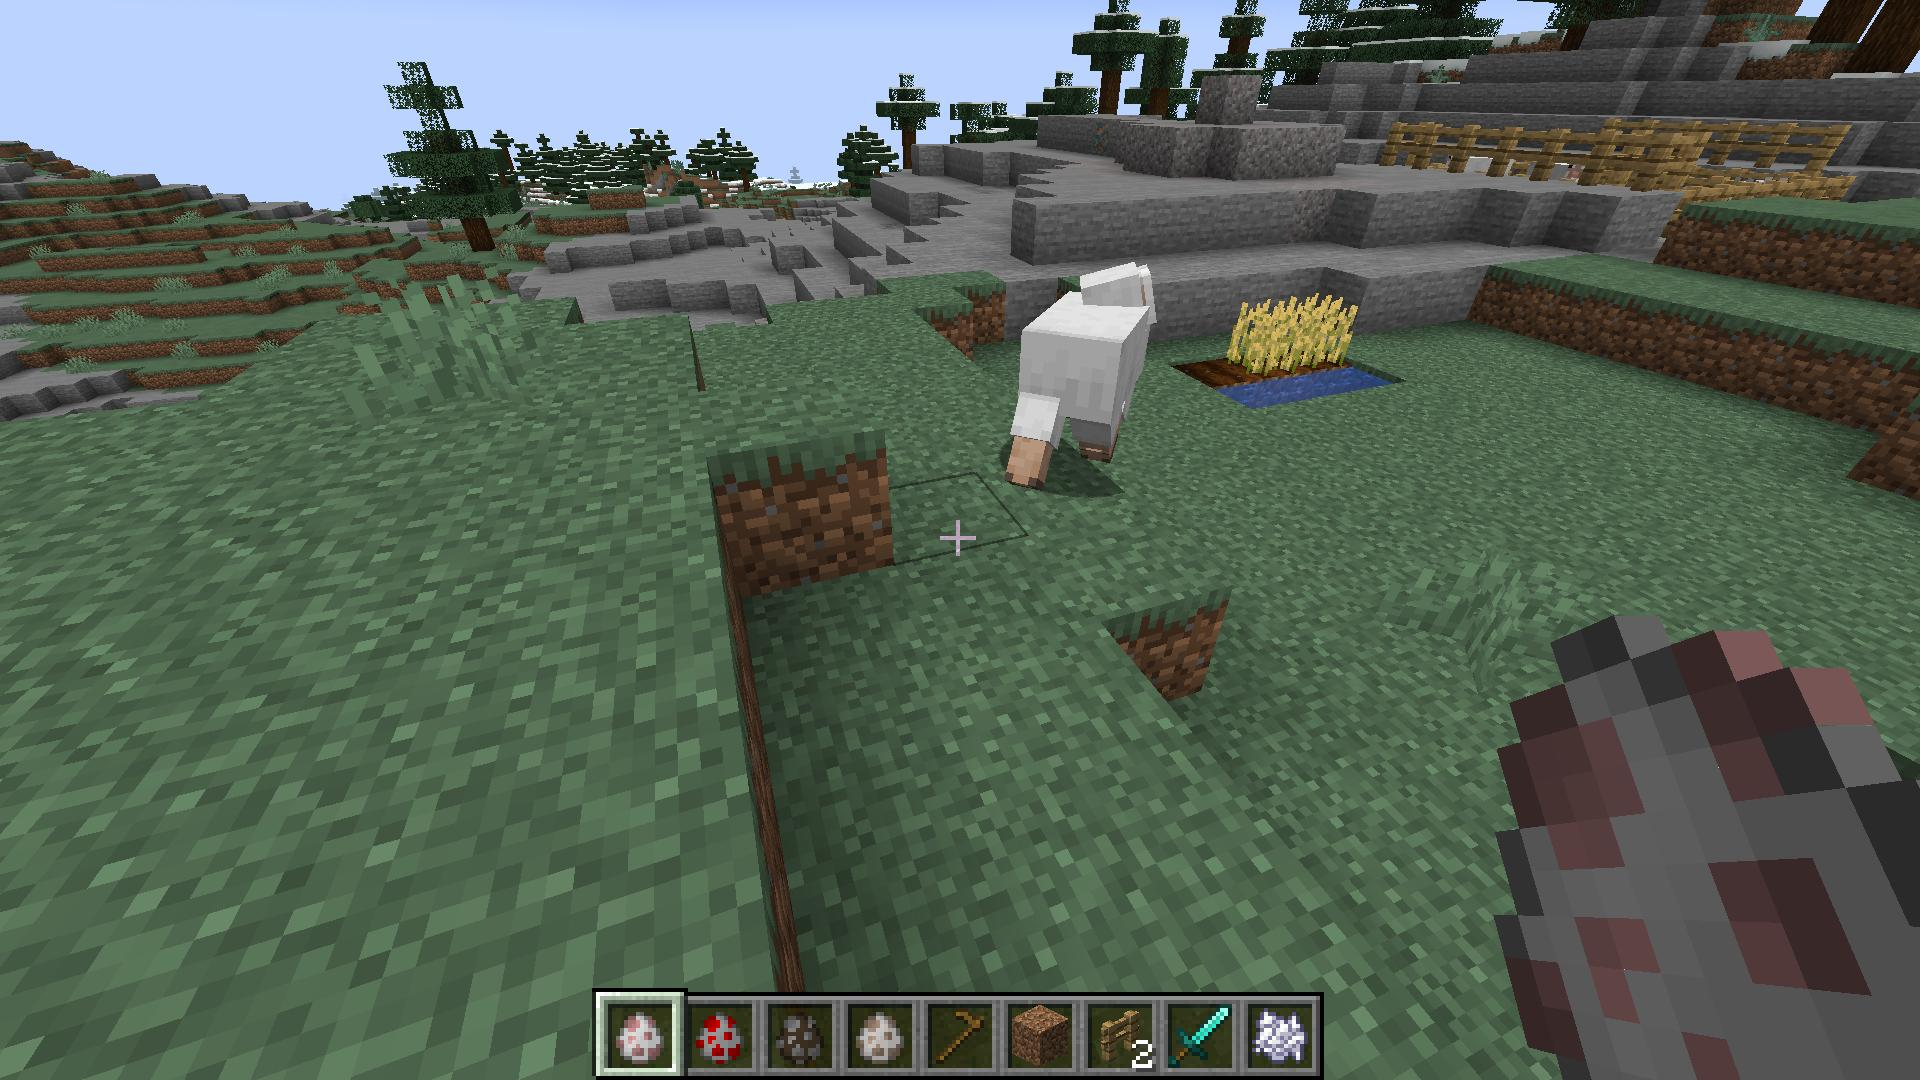sheep: (1001, 258, 1162, 488)
